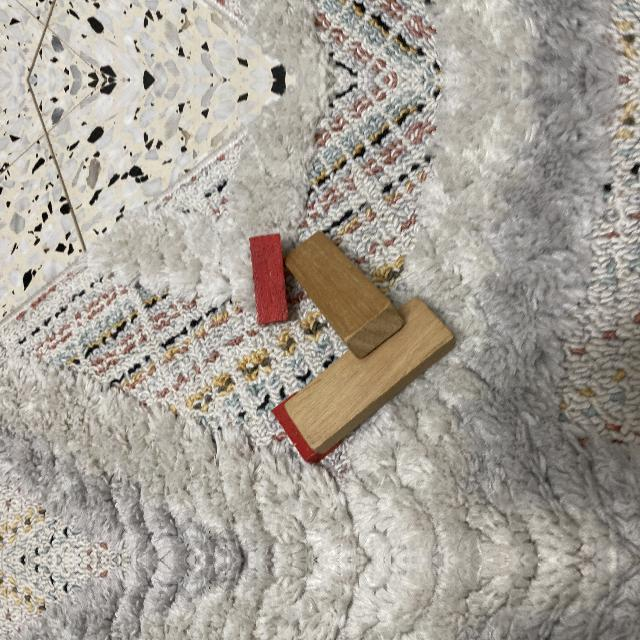jenga: (284, 298, 456, 454), (285, 231, 405, 359)
red block: (248, 234, 291, 327), (272, 402, 324, 464)
